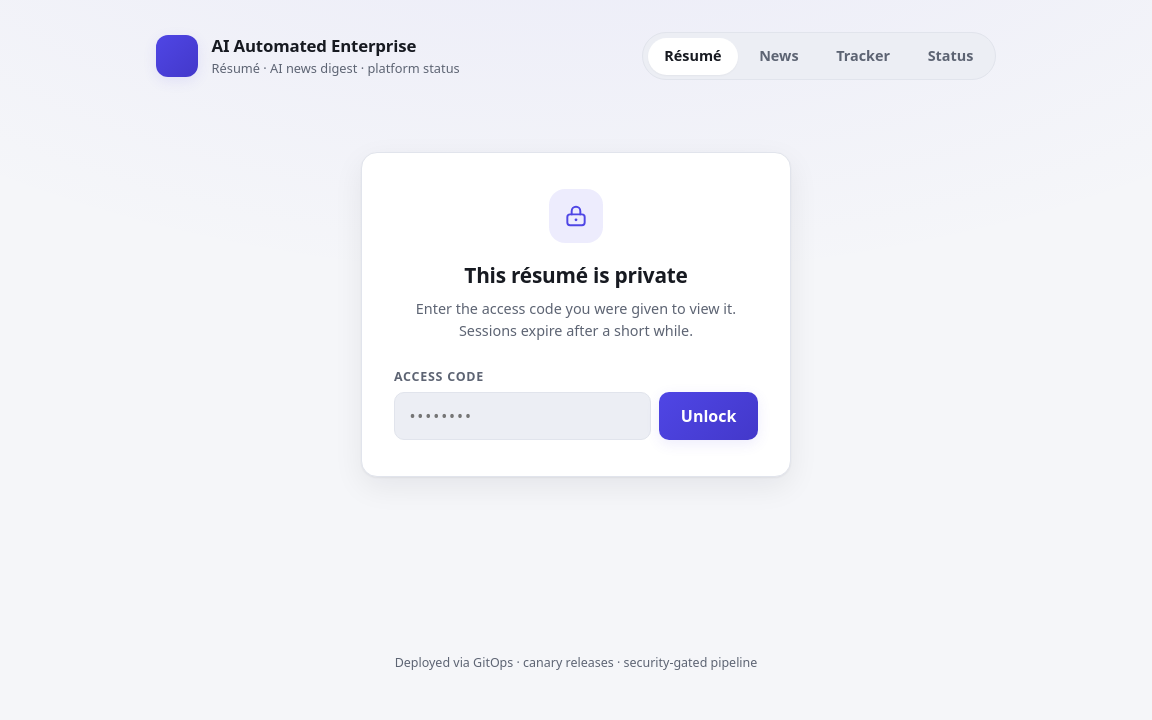
App › switches to the platform status tab
Click the button "Status": {"x": 951, "y": 56} [911,38,990,74]
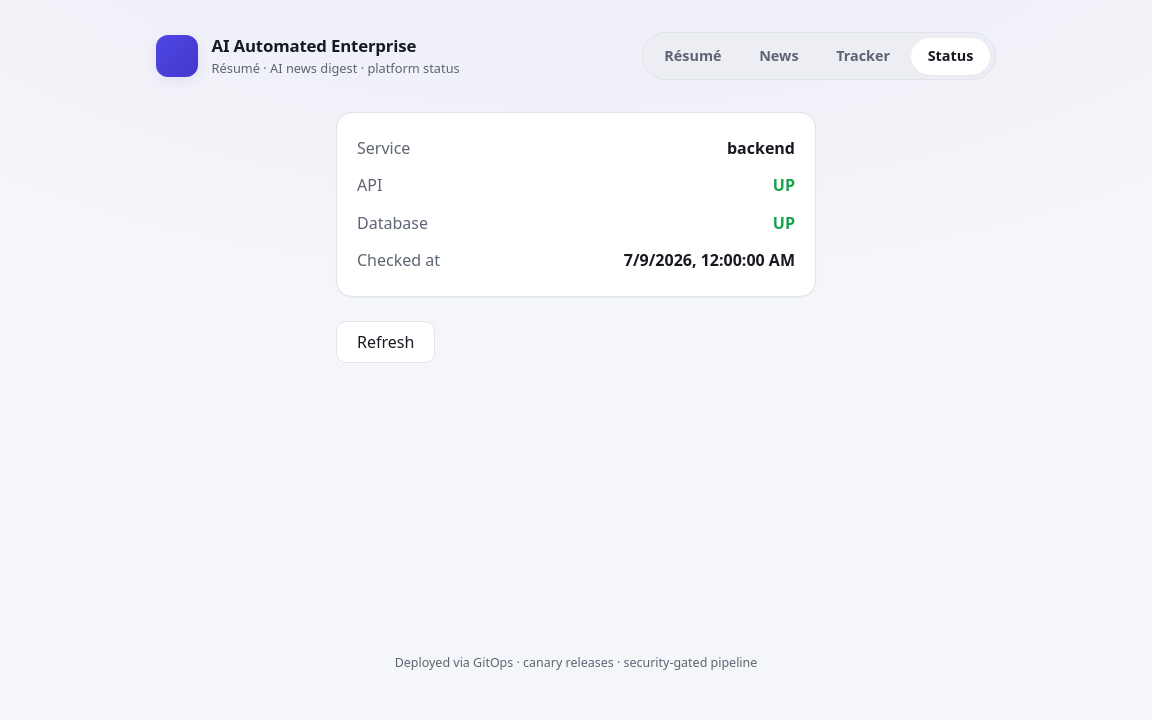
Expected: the text "Database" is shown, [357,211,428,236]
